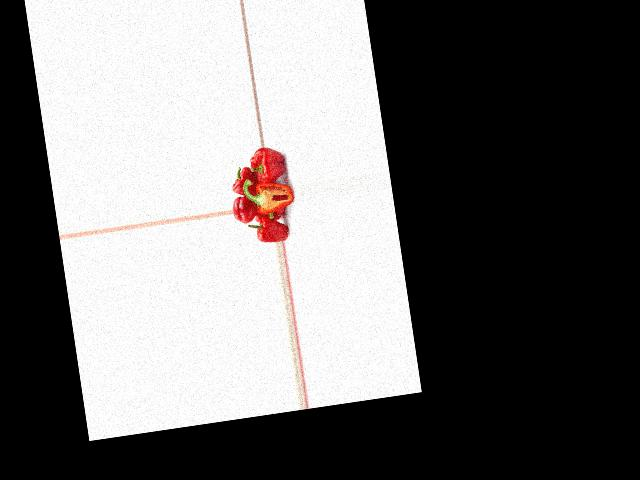bell_pepper: (229, 164, 257, 198)
